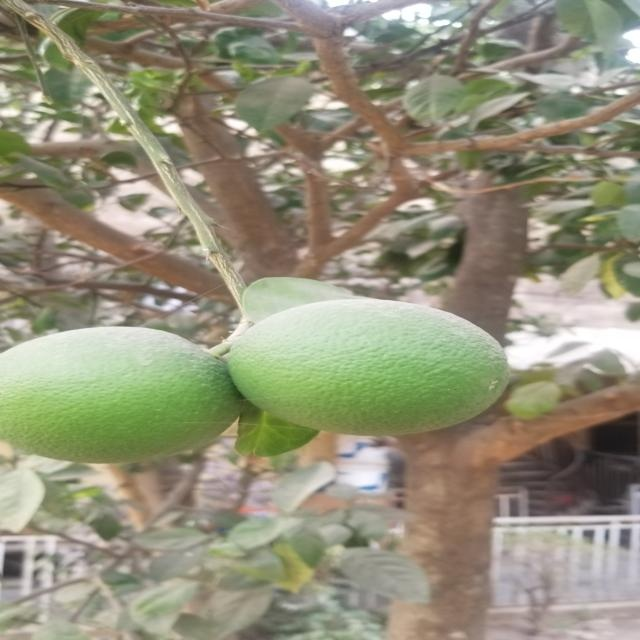agrume: (226, 294, 522, 438), (0, 326, 251, 463)
